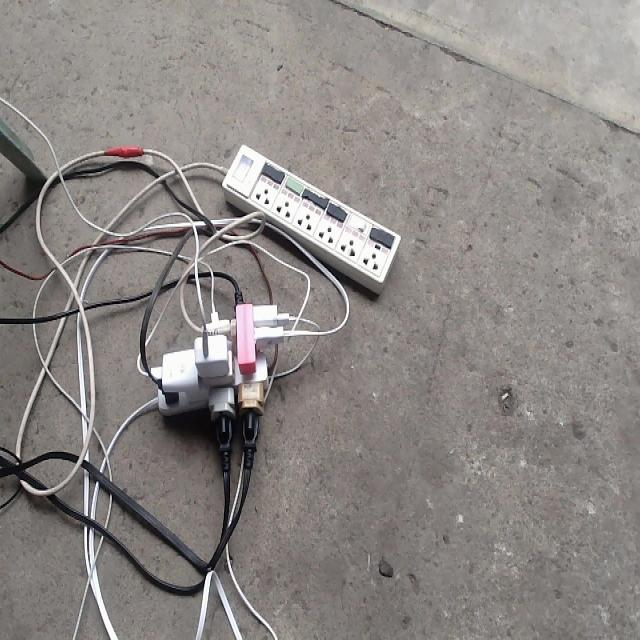-: (149, 285, 294, 452)
